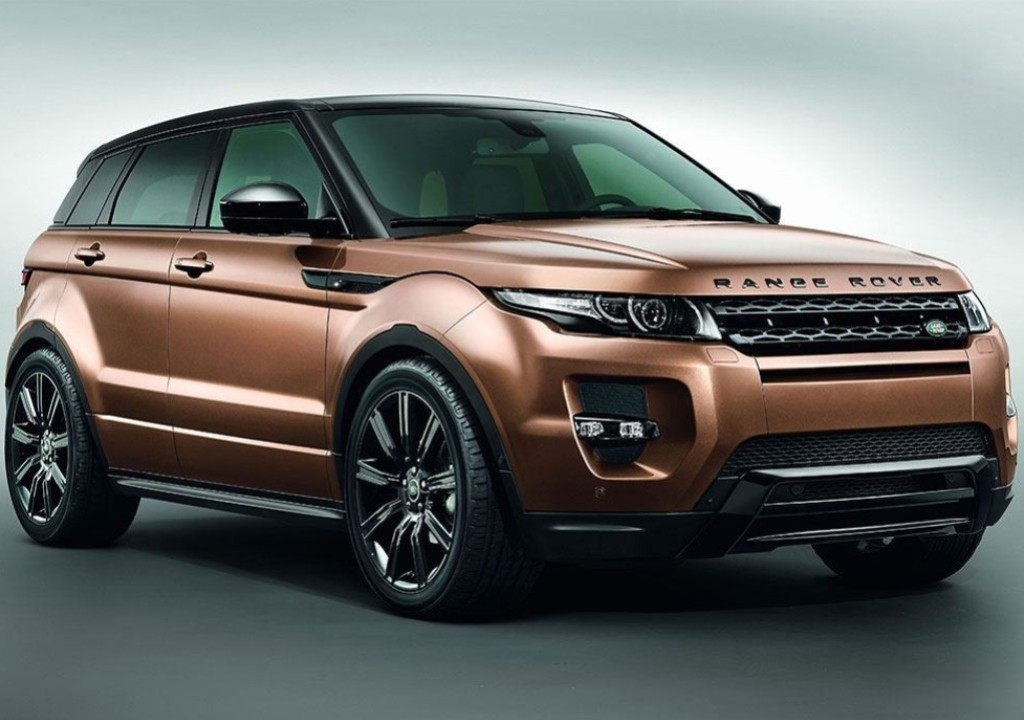Carro: (4, 96, 1024, 620)
